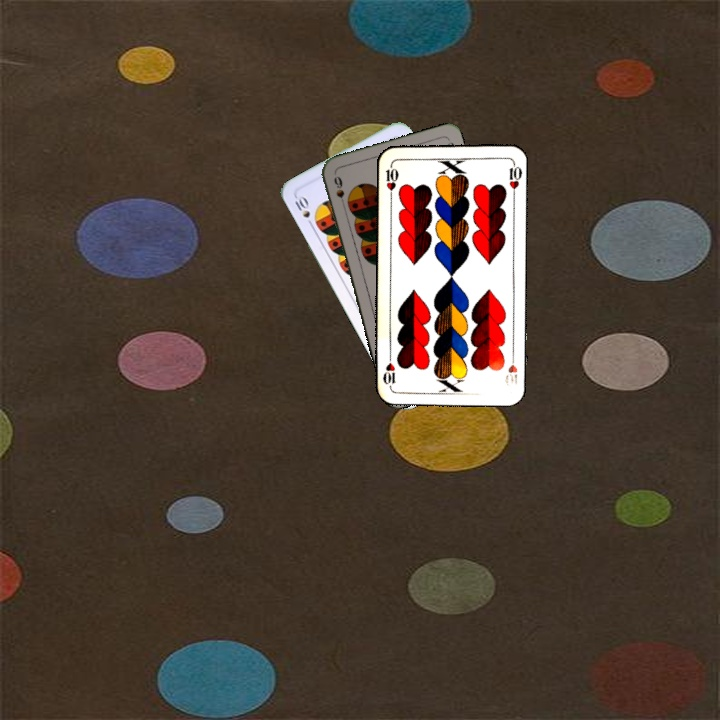H10: (382, 159, 401, 200), (501, 349, 520, 388)
S10: (291, 192, 316, 230)
S9: (330, 172, 348, 211)
